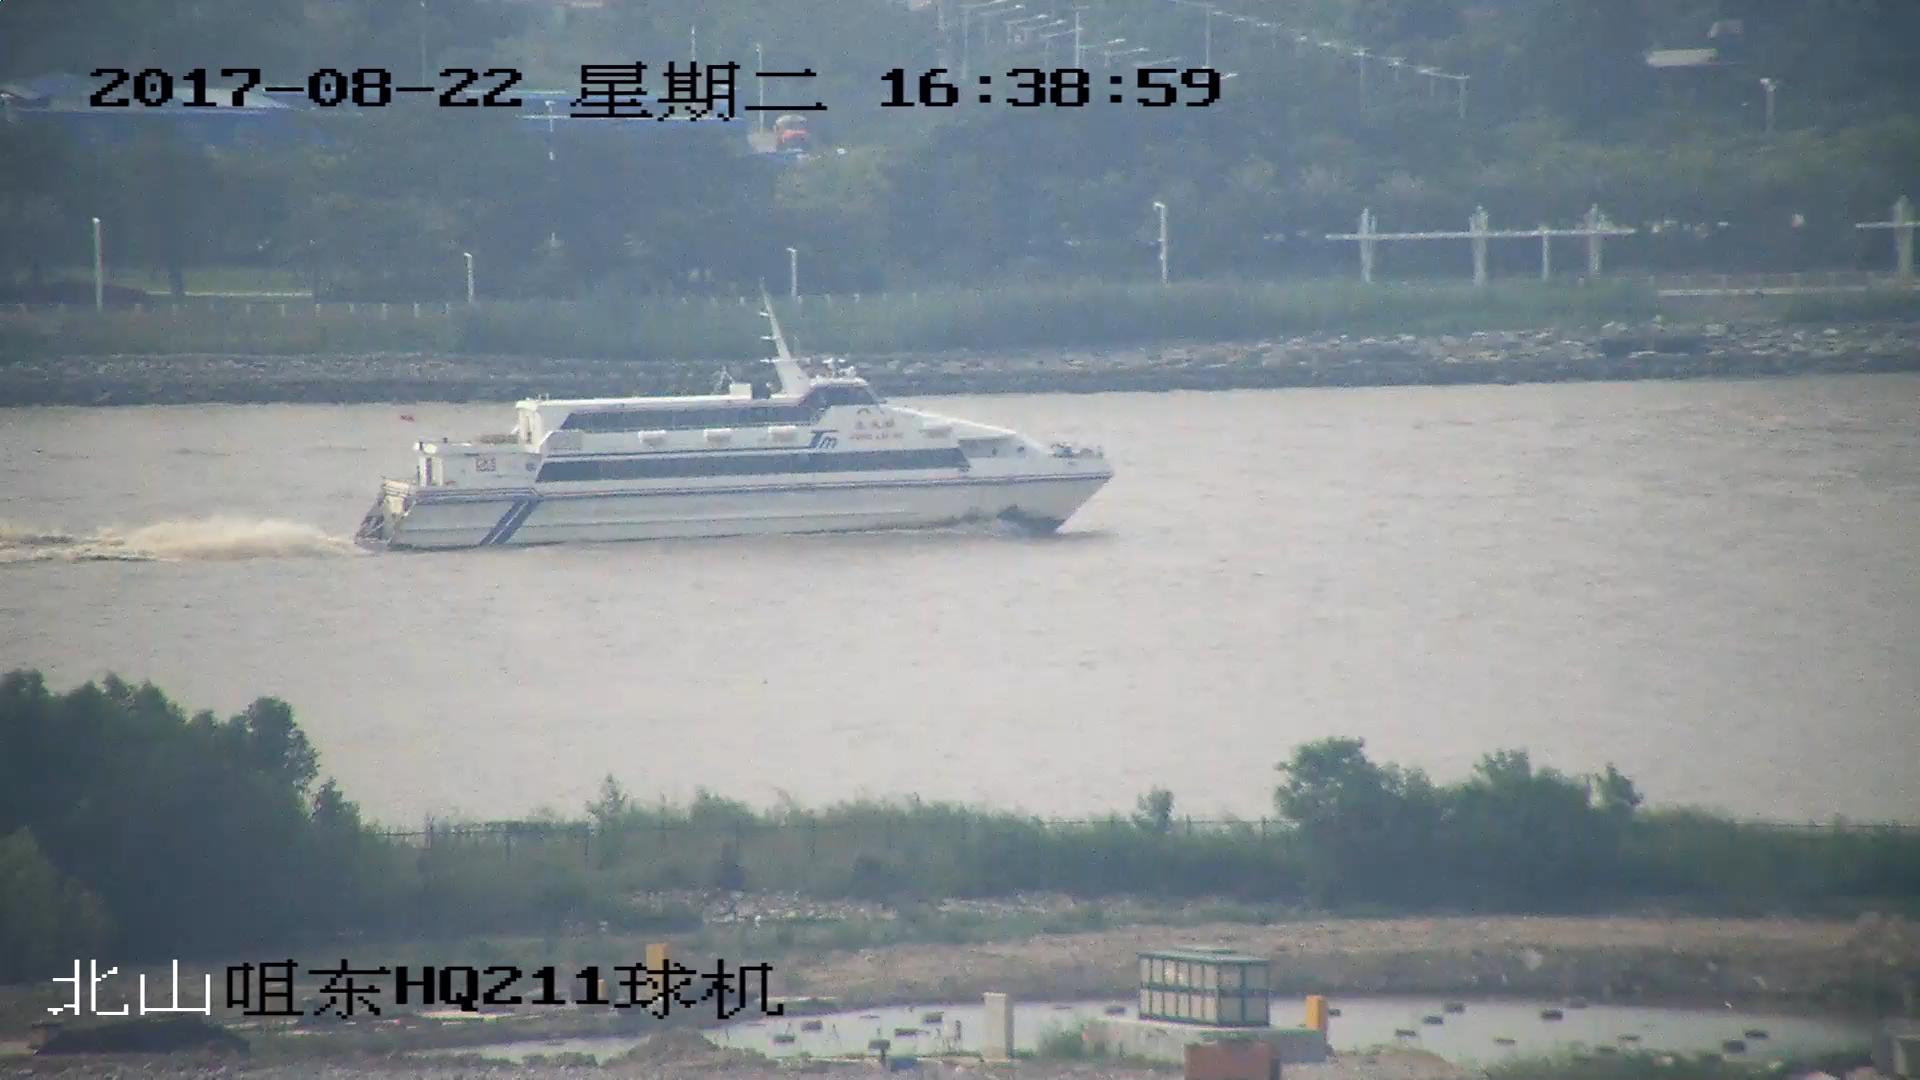passenger ship: (356, 287, 1106, 549)
